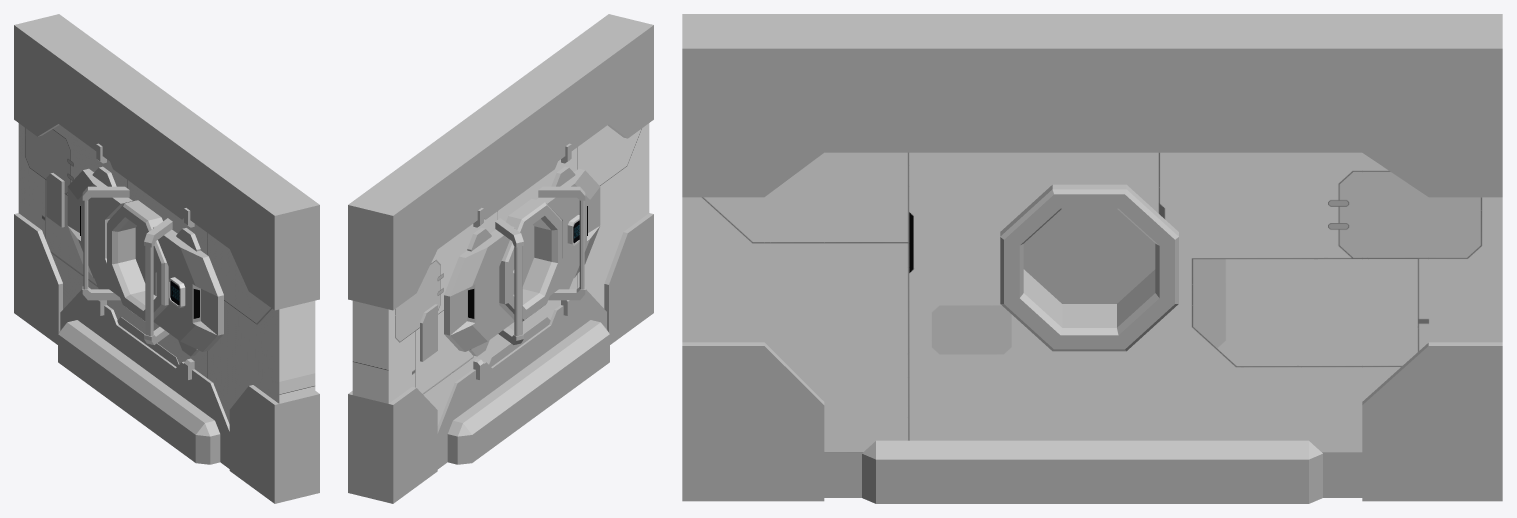
File: SM_Wall_5x3_Vent_1.fbx
3 renders of one model, left to right at view 1: azimuth 30°, elevation 25°; view 2: azimuth 150°, elevation 25°; view 3: azimuth 270°, elevation 25°, orthographic. The views are drawn at different scales.
Parts seen in each view (by area): view 1: SM_Wall_5x3_Vent_1, SM_Wall_5x3_Vent_piece_2; view 2: SM_Wall_5x3_Vent_1, SM_Wall_5x3_Vent_piece_1; view 3: SM_Wall_5x3_Vent_1, SM_Wall_5x3_Vent_piece_2, SM_Wall_5x3_Vent_piece_1.
Boxes of the visible parts, x1,y1,x2,y2 form: SM_Wall_5x3_Vent_1: [14, 14, 319, 503]; SM_Wall_5x3_Vent_piece_2: [135, 226, 156, 295]; SM_Wall_5x3_Vent_1: [348, 14, 653, 503]; SM_Wall_5x3_Vent_piece_1: [513, 224, 534, 294]; SM_Wall_5x3_Vent_1: [682, 14, 1502, 503]; SM_Wall_5x3_Vent_piece_2: [1073, 208, 1155, 303]; SM_Wall_5x3_Vent_piece_1: [1023, 208, 1089, 303].
Size of the model in its own units: 88.61 by 305 by 500.
